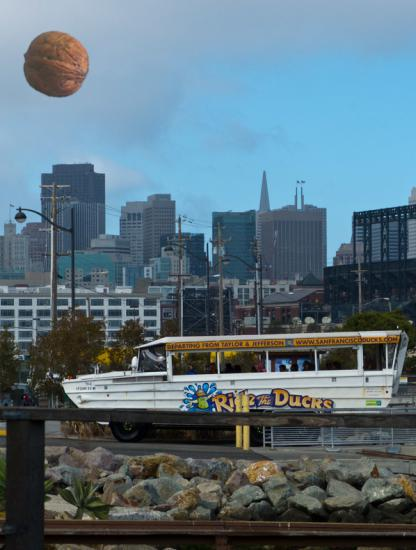Walnut: (22, 30, 91, 99)
